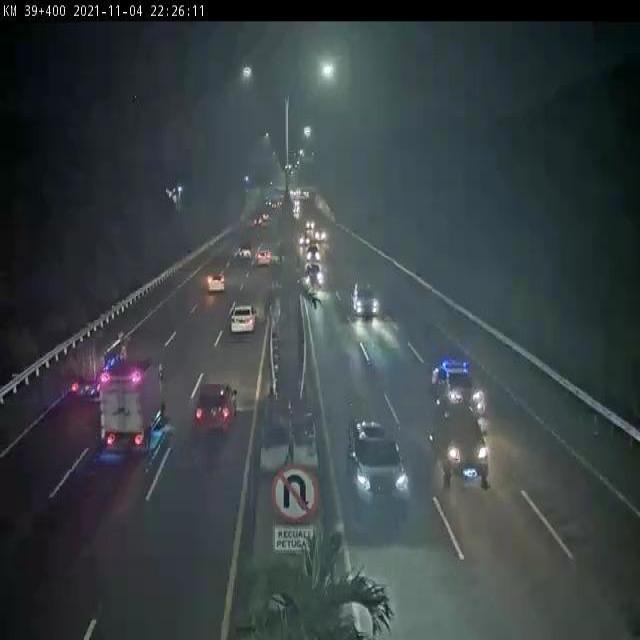car: (410, 539, 500, 632), (174, 376, 236, 460), (205, 296, 270, 360), (42, 552, 92, 635), (587, 581, 640, 640), (360, 429, 406, 494), (422, 362, 492, 402), (435, 423, 486, 477), (182, 263, 240, 308), (234, 244, 280, 285), (217, 246, 250, 286), (317, 215, 336, 240), (355, 293, 376, 315), (238, 222, 258, 238), (298, 220, 310, 244), (297, 240, 314, 256), (411, 488, 413, 489)
truck-l-: (57, 322, 109, 406)
truck-m-: (90, 345, 178, 476)
